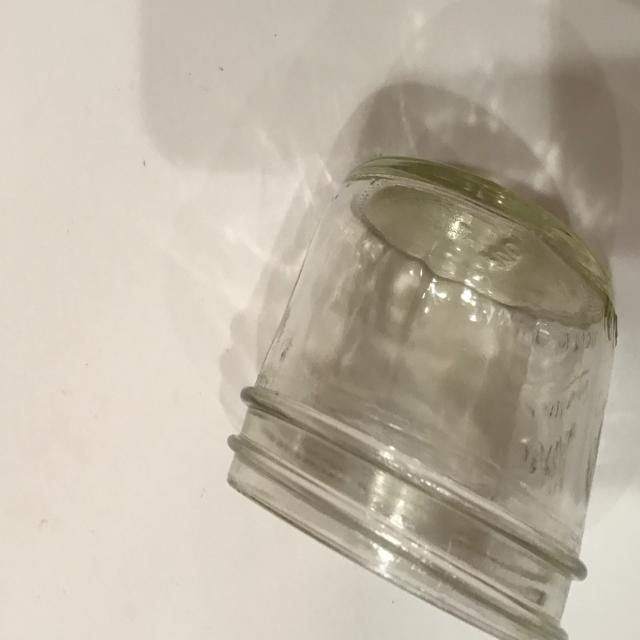glass: (220, 158, 612, 608)
